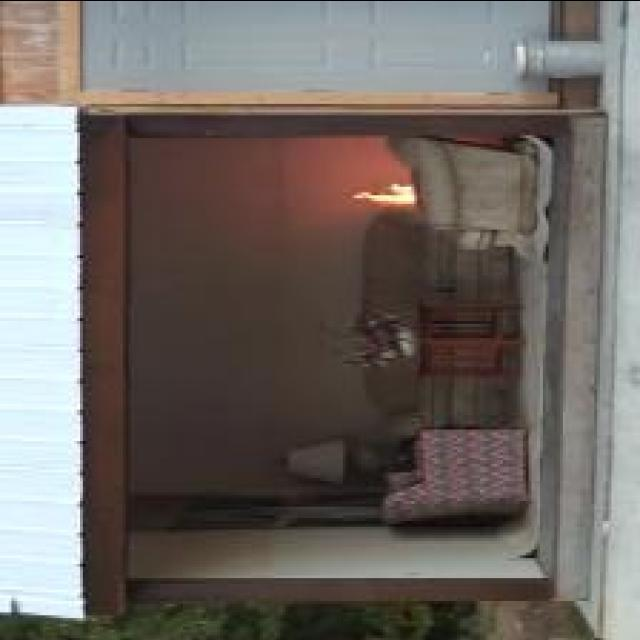Fire: (356, 183, 416, 203)
